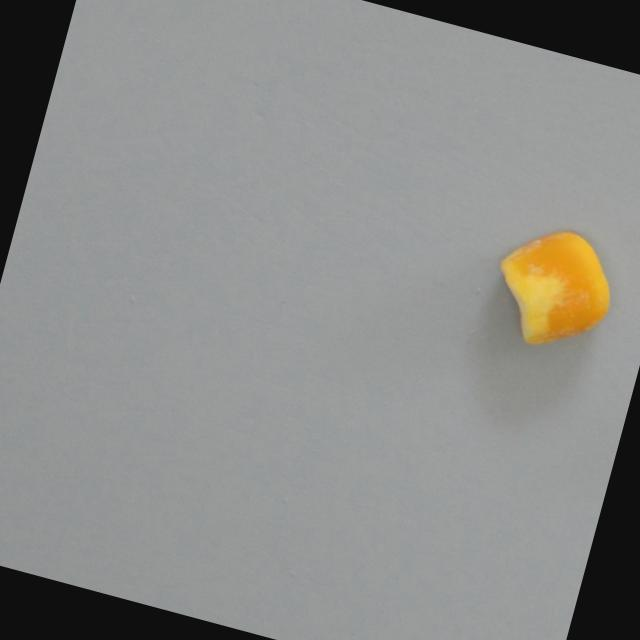pelicula: (477, 213, 627, 364)
